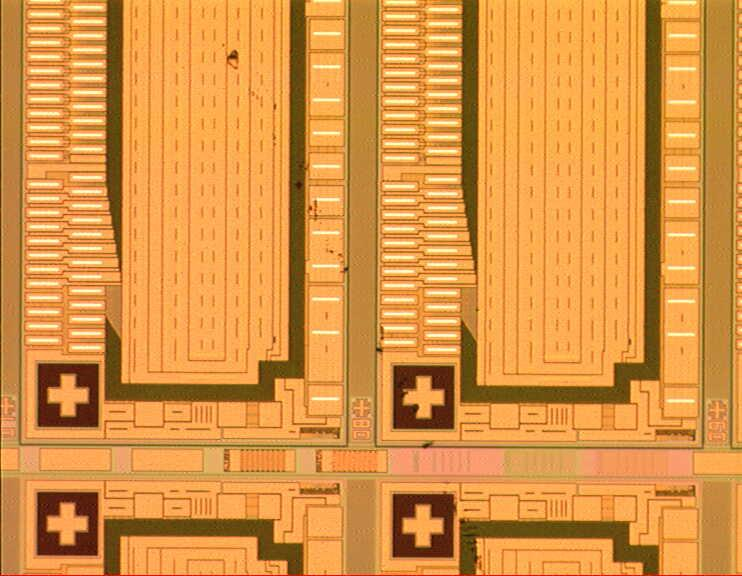SCRATCH: (211, 34, 503, 576)
